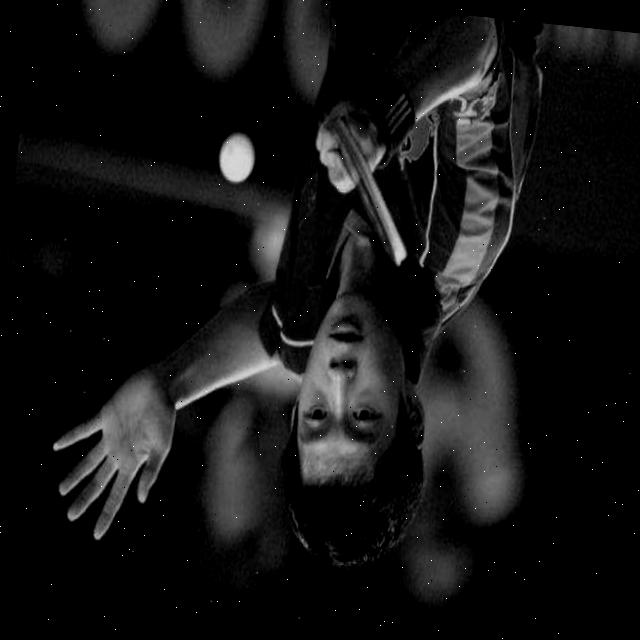ping-pong-ball: (214, 126, 260, 190)
